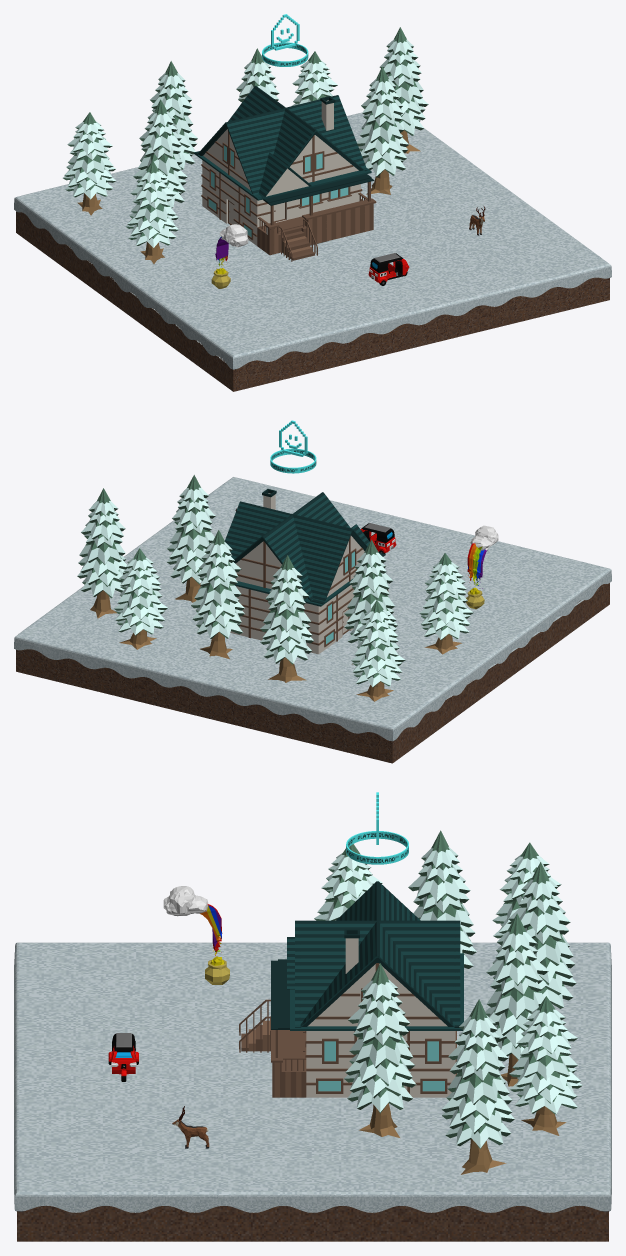
3 renders of one model, top to bottom at view 1: azimuth 30°, elevation 25°; view 2: azimuth 150°, elevation 25°; view 3: azimuth 270°, elevation 25°, orthographic. The views are drawn at different scales.
Parts seen in each view (by area): view 1: Cube.003, Cube.793, OBJRANDOM_RAINBOW, TYPE_PREMIUM, VEHICLES_TUC_TUC; view 2: Cube.003, Cube.793, OBJRANDOM_RAINBOW, TYPE_PREMIUM, VEHICLES_TUC_TUC; view 3: Cube.003, Cube.793, OBJRANDOM_RAINBOW, TYPE_PREMIUM, VEHICLES_TUC_TUC.
Boxes of the visible parts, x1,y1,x2,y2 form: Cube.003: (14, 27, 611, 391); Cube.793: (194, 85, 376, 261); OBJRANDOM_RAINBOW: (211, 224, 248, 288); TYPE_PREMIUM: (262, 14, 308, 66); VEHICLES_TUC_TUC: (368, 253, 409, 285); Cube.003: (14, 475, 611, 763); Cube.793: (225, 489, 388, 654); OBJRANDOM_RAINBOW: (466, 525, 498, 609); TYPE_PREMIUM: (270, 420, 316, 473); VEHICLES_TUC_TUC: (360, 523, 396, 553); Cube.003: (14, 830, 611, 1241); Cube.793: (239, 881, 463, 1097); OBJRANDOM_RAINBOW: (163, 886, 229, 984); TYPE_PREMIUM: (346, 792, 408, 864); VEHICLES_TUC_TUC: (108, 1033, 138, 1081).
Size of the model in its own units: 4040 by 2471 by 4040.
35 materials, 5 textured.
